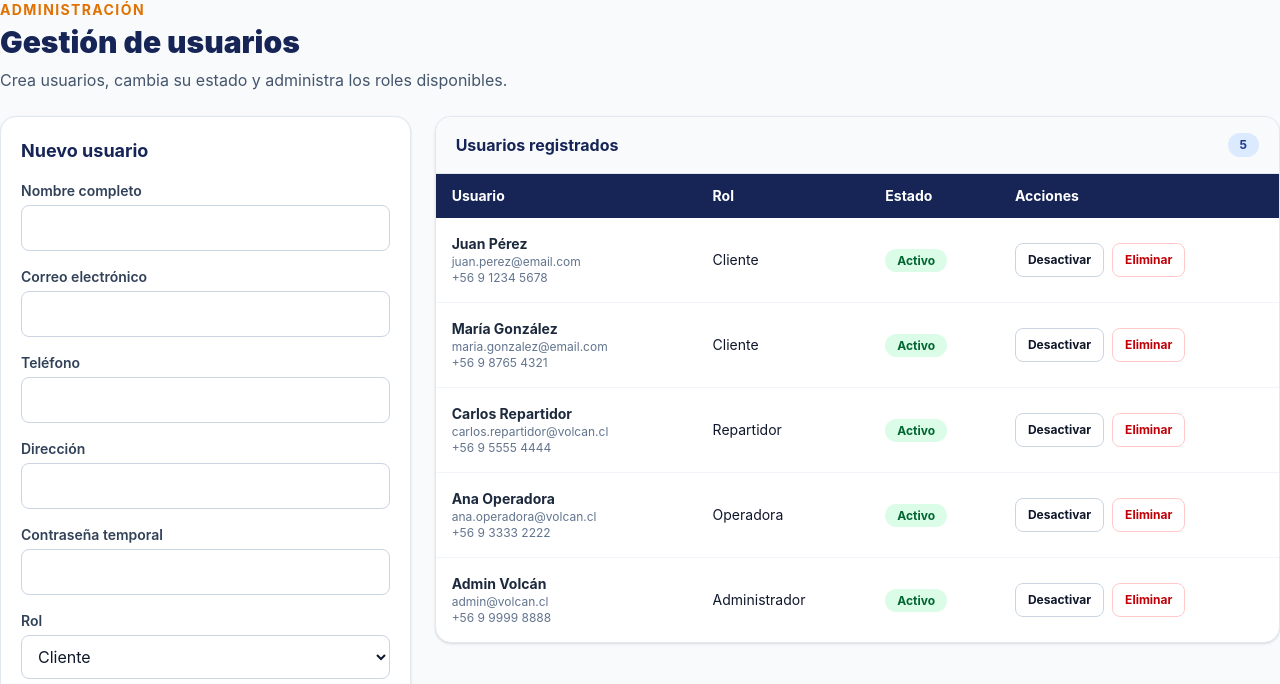
Test: AdminUsuario · crear usuario › crea un usuario válido y lo muestra en la tabla
The image size is (1280, 684).
Type "Luis Torres" into the field labelled "Nombre completo" at (205, 228), box [21,205,390,251]
Type "luis@example.com" into the field labelled "Correo electrónico" at (205, 314), box [21,291,390,337]
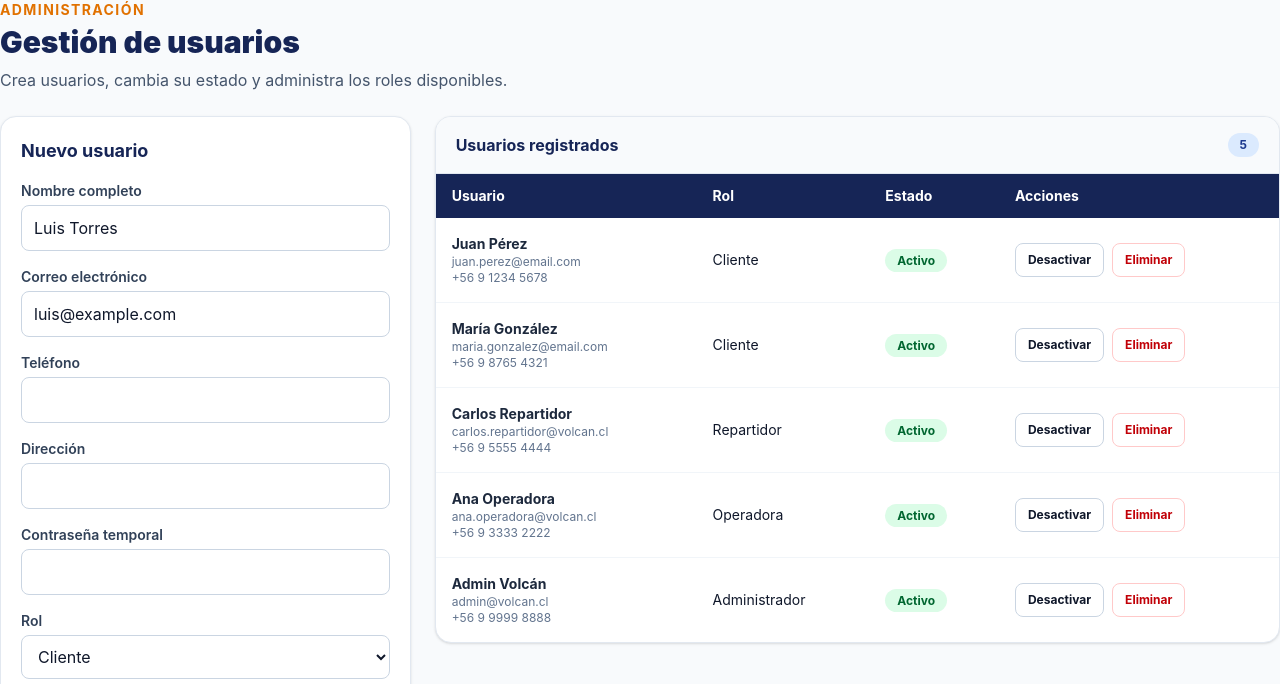
Type "+56 9 1111 2222" into the field labelled "Teléfono" at (205, 400), box [21,377,390,423]
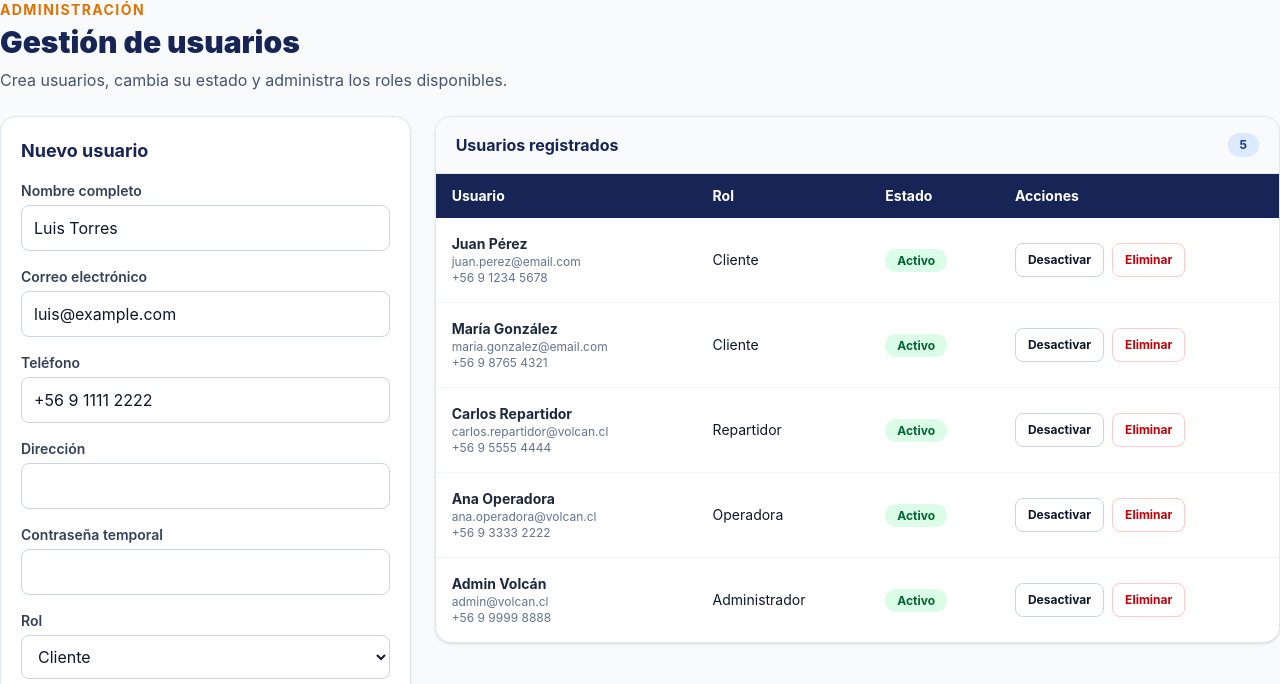
Type "Calle Falsa 123" into the field labelled "Dirección" at (205, 486), box [21,463,390,509]
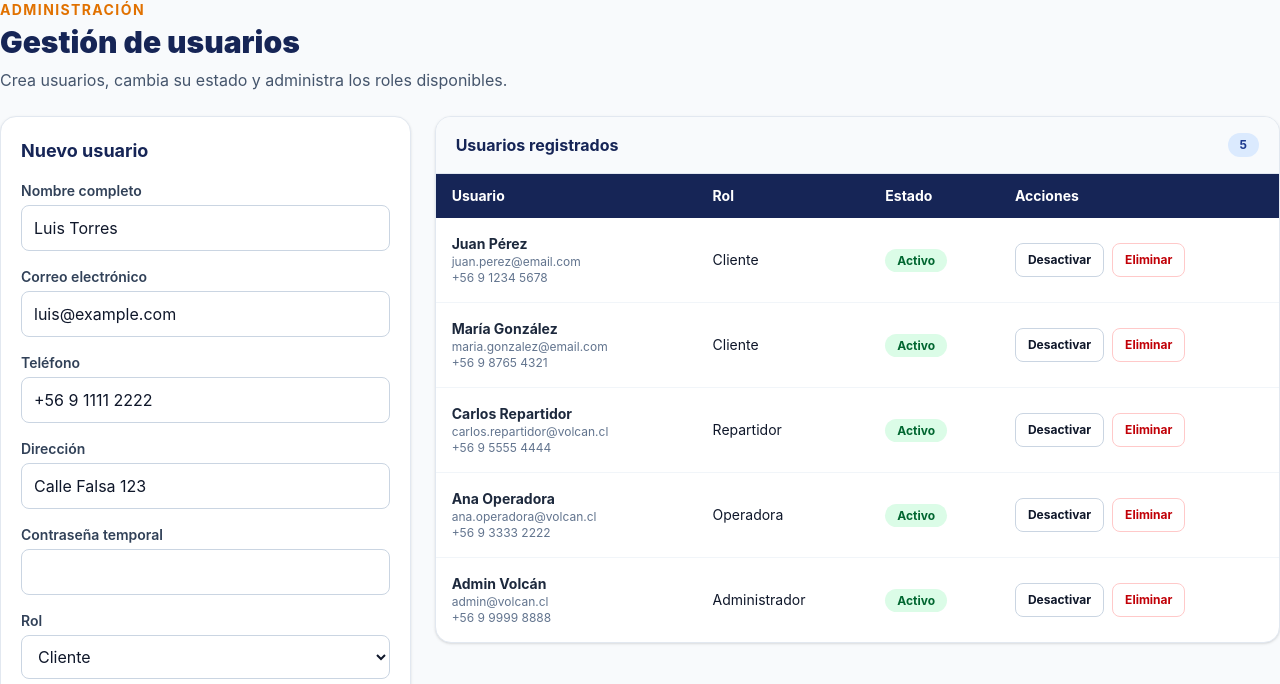
Type "secreto1" into the password field labelled "Contraseña temporal" at (205, 572), box [21,549,390,595]
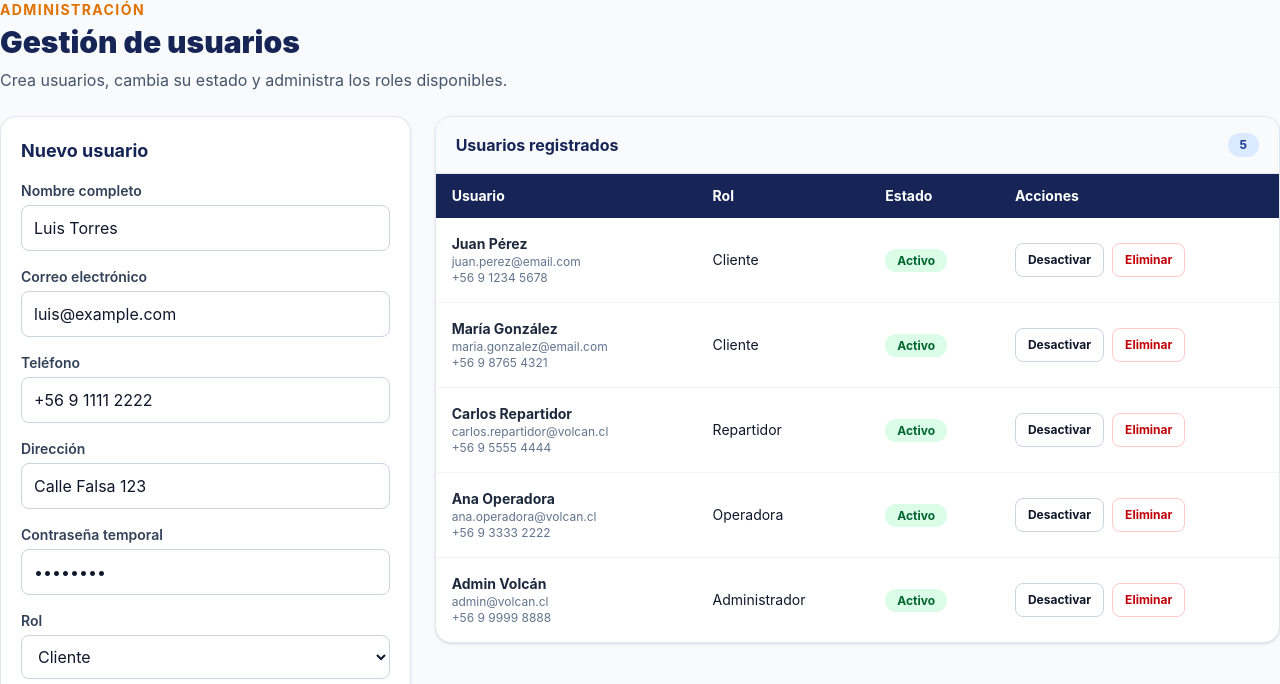
Select "Repartidor" in the dropdown labelled "Rol" at (205, 657), box [21,635,390,679]
(page scrolled)
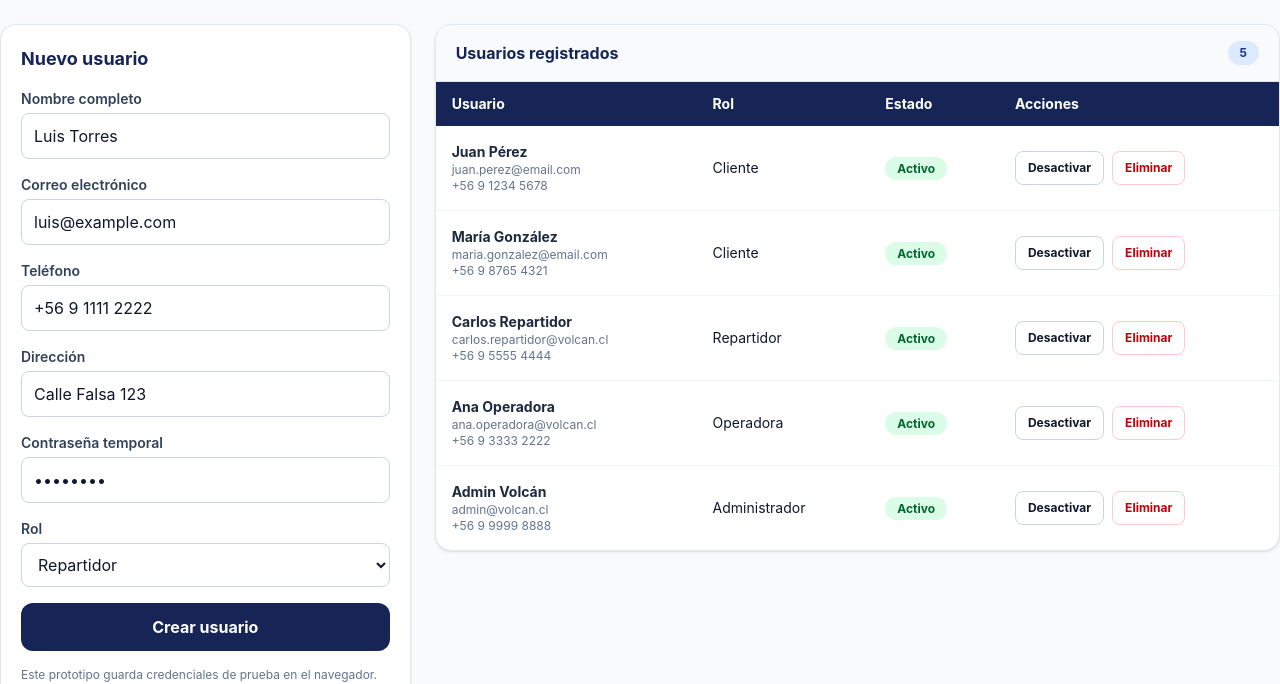
Click the button "Crear usuario" at (205, 627), box [21,603,390,651]
(page scrolled)
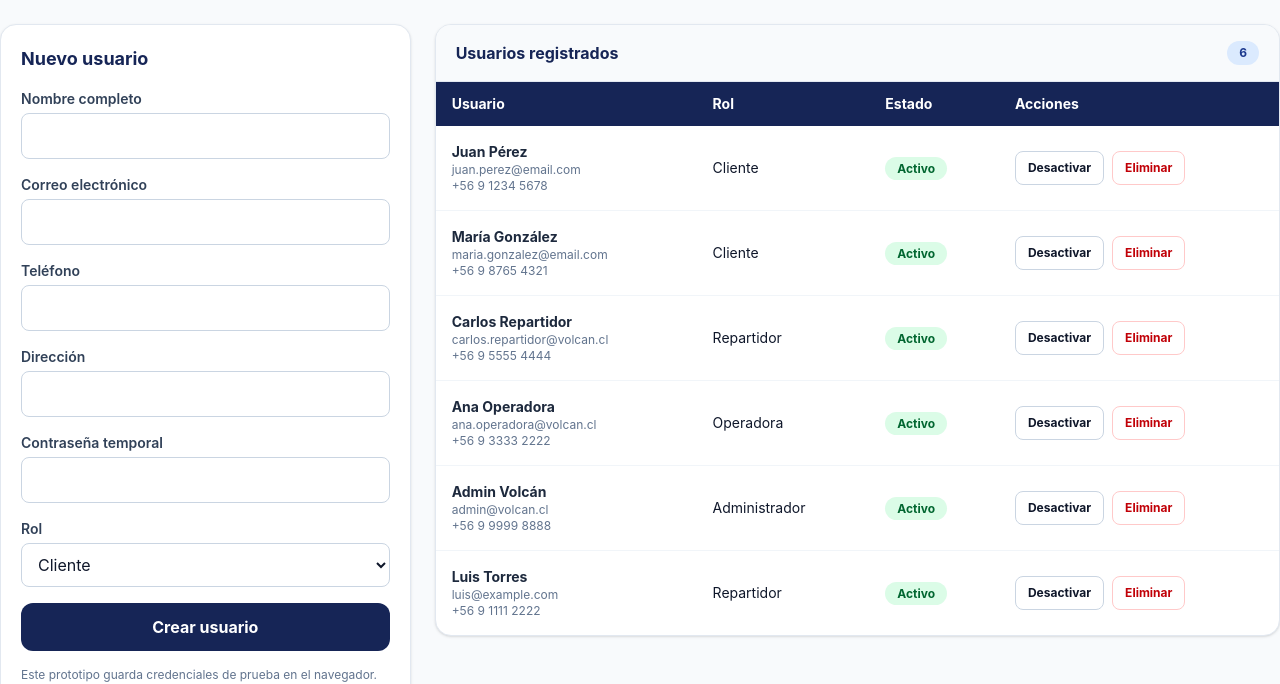
Check: the number of rows is 7
Check: the text "Repartidor" in the row of "Luis Torres" is shown, box [713,584,782,601]
Check: the field labelled "Nombre completo" is empty, box [21,113,390,159]
